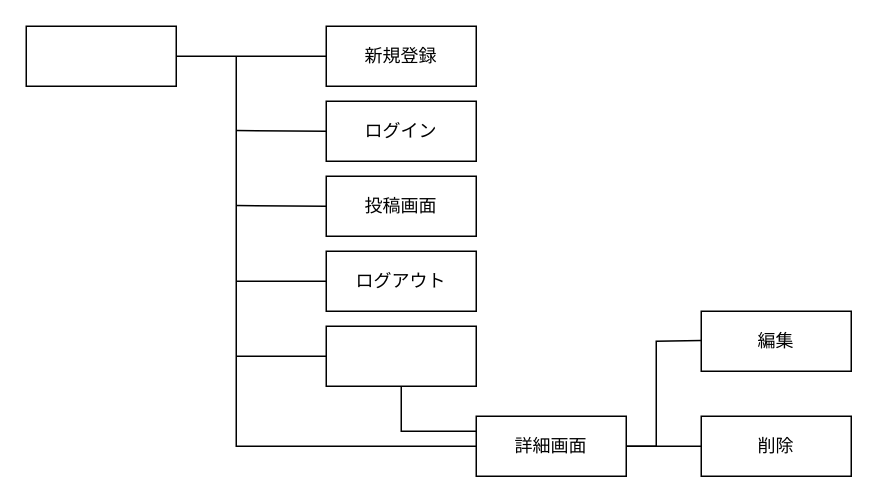
Some shapes in this 878 by 503 pixel diagram are drawn without their labels. Here are the shapes that lost their labels. From the top down, the box of each, then its label:
(25, 25, 176, 86): 一覧ページ
(325, 325, 476, 386): マイページ
